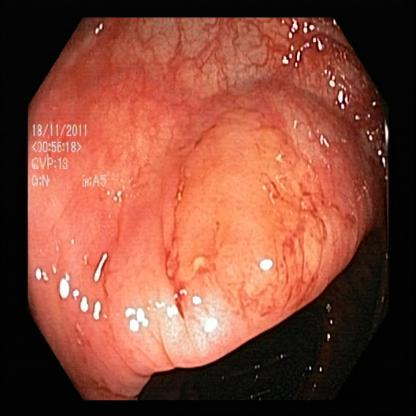Labels: (30, 106, 128, 209)
Polyps: (168, 108, 377, 338)
